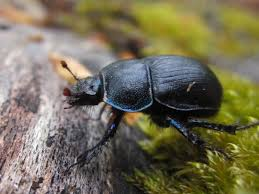Coconut Rhinoceros Beetle: (23, 15, 253, 170)
Hawaii Scarab Beetle: (59, 44, 248, 170)
